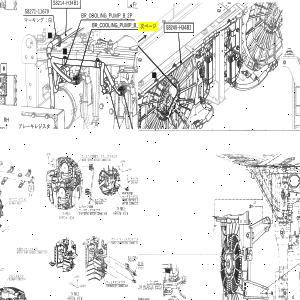PartNumber: (23, 7, 50, 16), (52, 0, 79, 7), (166, 24, 193, 31), (9, 197, 27, 201)
